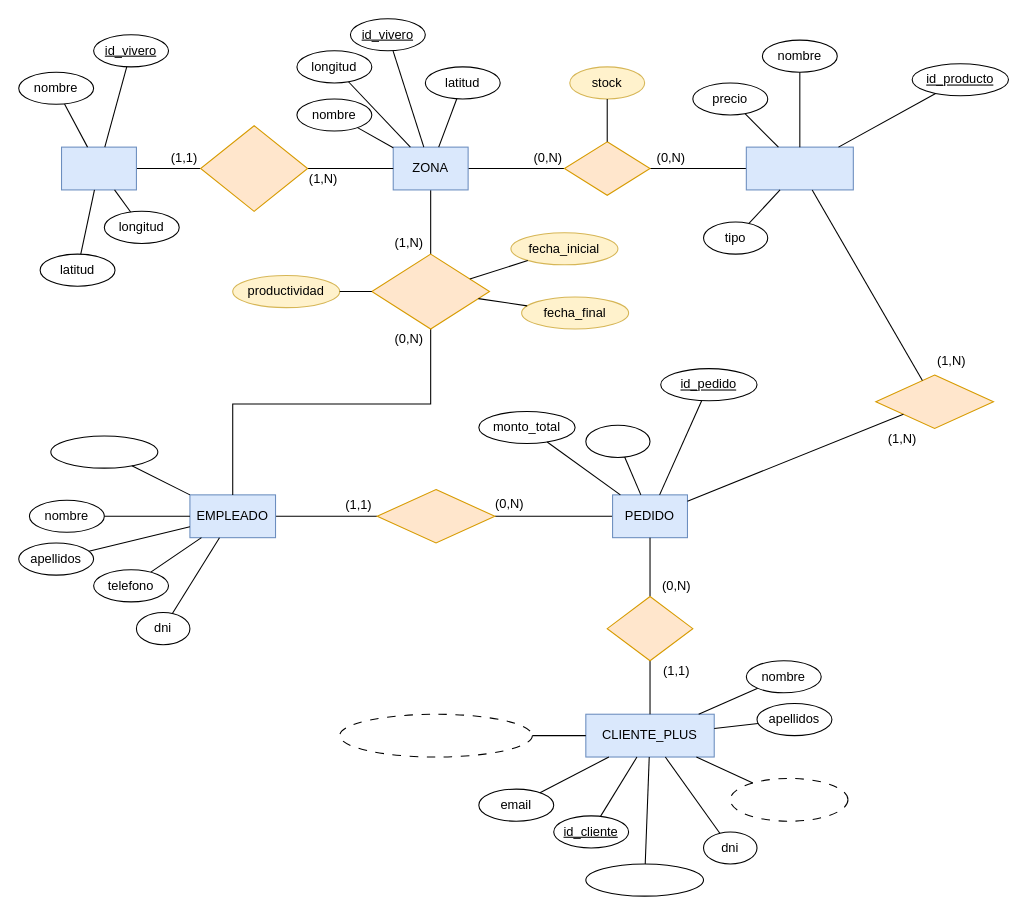
Image size: 1027x915. Some labels were removed from this diagram. Each missing label, with the centre of its shape:
ASIGNACION: the point at 430,291
bonificaciones: the point at 788,799
CONTIENE: the point at 934,401
fecha: the point at 617,440
fecha_ingreso: the point at 644,879
GESTIONA: the point at 435,515
id_empleado: the point at 104,451
PERTENECE: the point at 254,168
PRODUCTO: the point at 799,168
REALIZA: the point at 649,628
TIENE: the point at 606,168
VIVERO: the point at 98,168
volumen_compras_mensual: the point at 435,735
